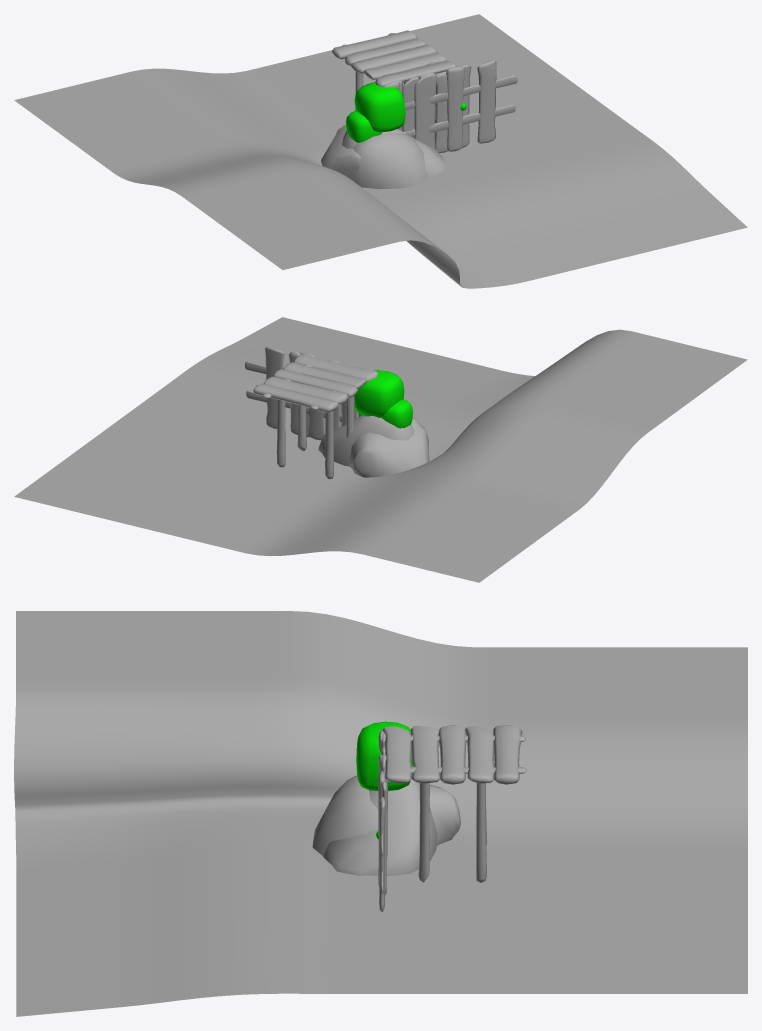
Rendered from Set_1.fbx.
3 renders of one model, top to bottom at view 1: azimuth 30°, elevation 25°; view 2: azimuth 150°, elevation 25°; view 3: azimuth 270°, elevation 25°, orthographic. The views are drawn at different scales.
Parts seen in each view (by area): view 1: pPlane1, Fence, Fence_Door5, pCube9, Fence_Door, pCube10, pCube6, pCube7, pCube8; view 2: pPlane1, Fence_Door5, pCube7, pCube6, pCube8, Fence, Fence_Door; view 3: pPlane1, Fence_Door5, pCube8, pCube9, pCube6, pCube7, Fence.
Part boxes in pixels (x1,y1,x2,y2): pPlane1: [14, 14, 747, 288]; Fence: [384, 60, 517, 151]; Fence_Door5: [332, 30, 456, 110]; pCube9: [353, 133, 428, 189]; Fence_Door: [389, 64, 471, 153]; pCube10: [354, 82, 405, 132]; pCube6: [345, 83, 405, 142]; pCube7: [321, 125, 360, 182]; pCube8: [342, 128, 445, 178]; pPlane1: [14, 317, 747, 582]; Fence_Door5: [253, 354, 378, 479]; pCube7: [349, 427, 429, 477]; pCube6: [354, 369, 412, 428]; pCube8: [318, 415, 429, 466]; Fence: [244, 347, 377, 437]; Fence_Door: [288, 352, 367, 440]; pPlane1: [14, 611, 747, 1016]; Fence_Door5: [382, 725, 526, 882]; pCube8: [323, 779, 437, 876]; pCube9: [312, 775, 378, 855]; pCube6: [356, 721, 412, 790]; pCube7: [429, 784, 460, 845]; Fence: [378, 730, 385, 911].
Bounding box in the file's own units: 21.99 × 5.88 × 22.05.
